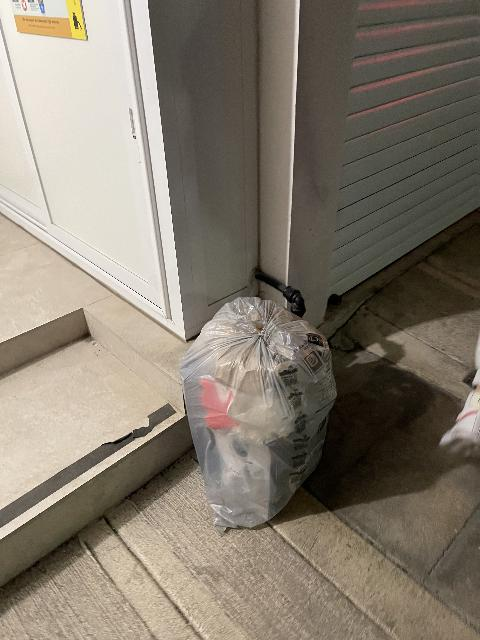Recyclable -Grey-: (180, 297, 336, 531)
